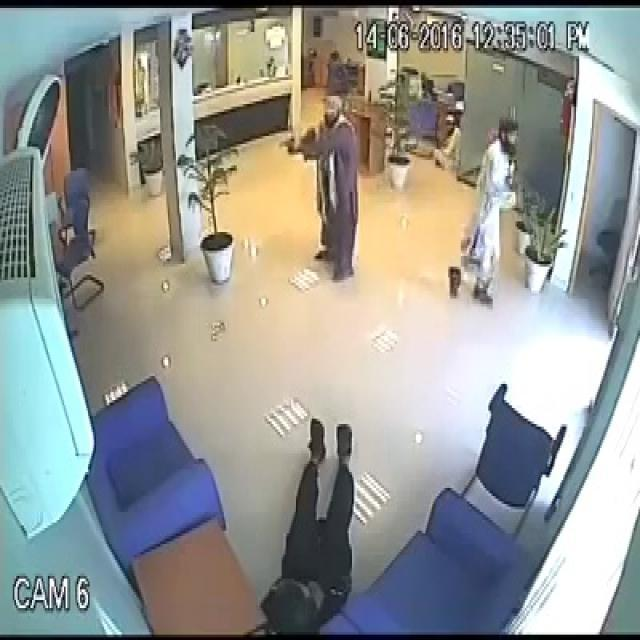weapon: (274, 130, 296, 154)
